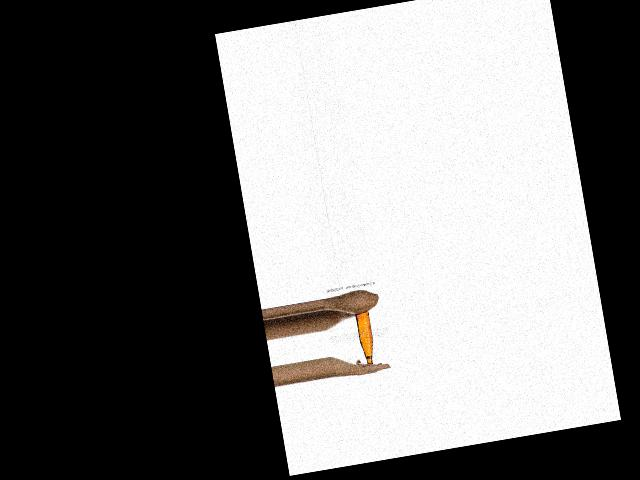beer: (354, 311, 377, 366)
